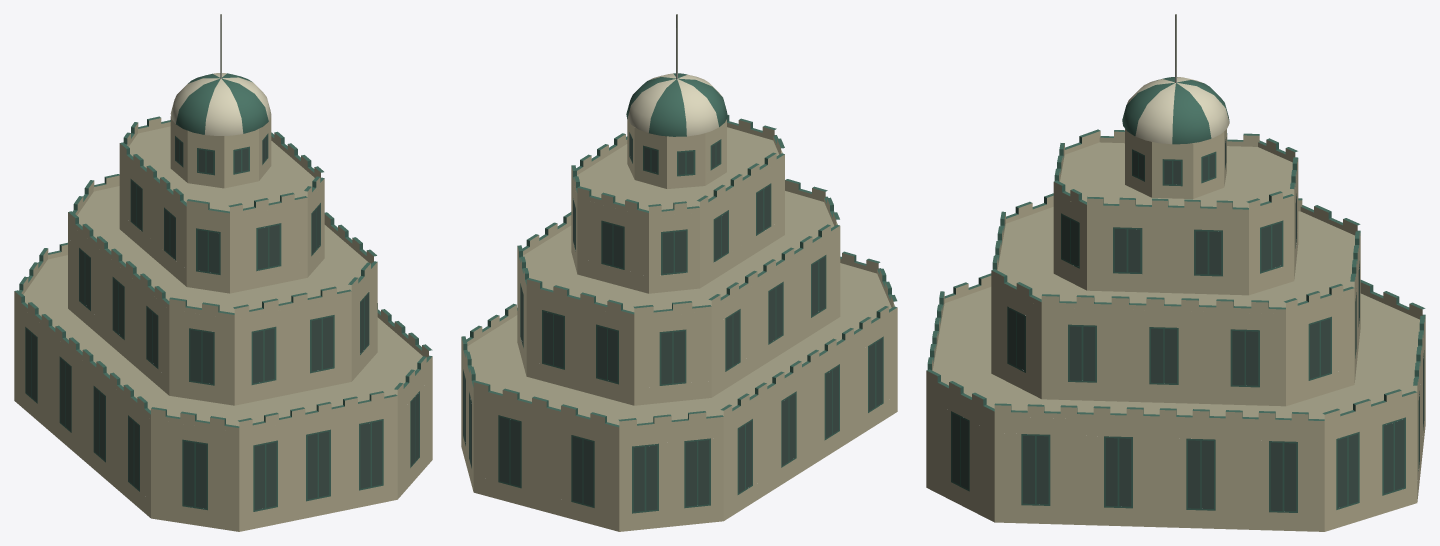
Rendered from tovrea-castle-far.glb.
The picture shows the model from 3 angles, left to right: view 1: azimuth 30°, elevation 25°; view 2: azimuth 150°, elevation 25°; view 3: azimuth 270°, elevation 25°; orthographic projection. The views are drawn at different scales.
Parts seen in each view (by area): view 1: tovrea-castle-0-stone, tovrea-castle-0-roof, tovrea-castle-0-glass, tovrea-castle-0-frame, tovrea-castle-0-trim; view 2: tovrea-castle-0-stone, tovrea-castle-0-roof, tovrea-castle-0-glass, tovrea-castle-0-frame, tovrea-castle-0-trim; view 3: tovrea-castle-0-stone, tovrea-castle-0-roof, tovrea-castle-0-glass, tovrea-castle-0-frame, tovrea-castle-0-trim.
Part boxes in pixels (x1,y1,x2,y2): tovrea-castle-0-stone: (14, 116, 432, 531); tovrea-castle-0-roof: (23, 113, 422, 426); tovrea-castle-0-glass: (26, 136, 419, 510); tovrea-castle-0-frame: (15, 73, 432, 511); tovrea-castle-0-trim: (170, 73, 271, 135); tovrea-castle-0-stone: (461, 119, 897, 531); tovrea-castle-0-roof: (467, 127, 894, 425); tovrea-castle-0-glass: (463, 134, 882, 511); tovrea-castle-0-frame: (461, 73, 897, 513); tovrea-castle-0-trim: (627, 73, 722, 136); tovrea-castle-0-stone: (926, 129, 1425, 531); tovrea-castle-0-roof: (932, 142, 1419, 419); tovrea-castle-0-glass: (952, 138, 1423, 511); tovrea-castle-0-frame: (926, 77, 1425, 512); tovrea-castle-0-trim: (1127, 77, 1229, 144).
Bounding box in the file's own units: 11.57 × 15.84 × 16.21.
